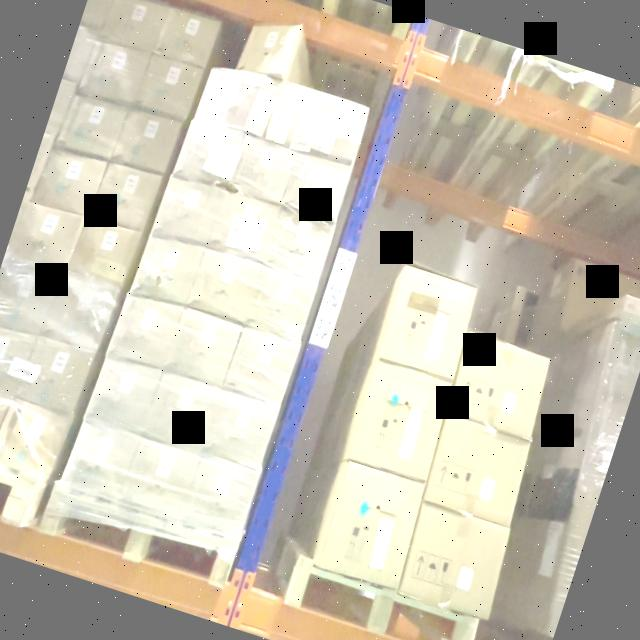box: (319, 468, 424, 581), (350, 364, 452, 480), (426, 419, 534, 522), (402, 510, 510, 612), (378, 272, 476, 377), (448, 337, 552, 434), (122, 442, 198, 518), (64, 421, 137, 499), (86, 356, 158, 434), (145, 374, 220, 448), (133, 233, 203, 310), (168, 312, 240, 386), (108, 298, 180, 370), (226, 329, 298, 401), (154, 178, 224, 248), (264, 210, 334, 279), (246, 77, 312, 150), (247, 268, 317, 336), (208, 393, 276, 463), (191, 250, 258, 320), (299, 96, 366, 166), (172, 124, 242, 189), (282, 152, 350, 216), (199, 66, 263, 132), (240, 17, 307, 79), (188, 463, 255, 523), (232, 138, 296, 200), (212, 194, 276, 256)
